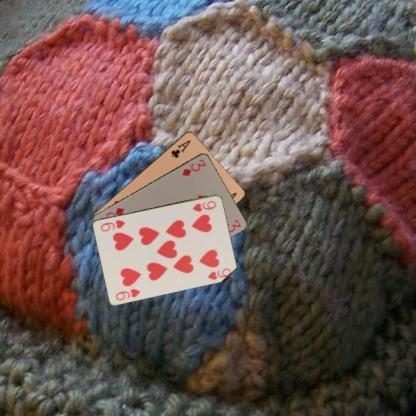3d: (180, 156, 208, 178)
9h: (113, 286, 142, 302), (190, 198, 217, 212)
Ac: (168, 137, 192, 159)
